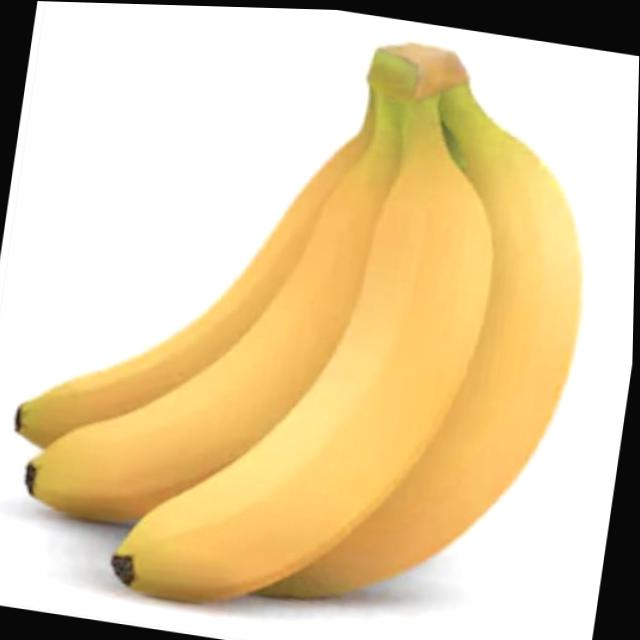Banana: (0, 0, 618, 640)
